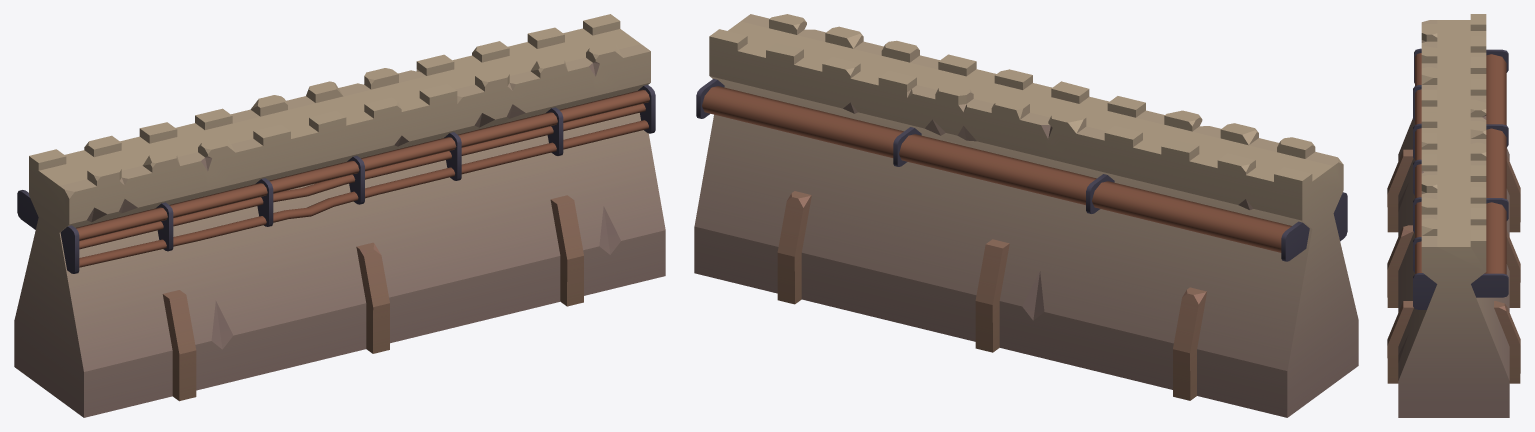
The model's file is WallSection_Big.fbx.
3 renders of one model, left to right at view 1: azimuth 30°, elevation 25°; view 2: azimuth 150°, elevation 25°; view 3: azimuth 270°, elevation 25°, orthographic. The views are drawn at different scales.
Visible parts, largest first — view 1: WallSection_Big; view 2: WallSection_Big; view 3: WallSection_Big.
Part boxes in pixels (box(x1,y1,x2,y2)): WallSection_Big: box(14, 14, 665, 417); WallSection_Big: box(694, 14, 1358, 417); WallSection_Big: box(1387, 14, 1520, 417).
Bounding box in the file's own units: 804 × 294 × 200.
